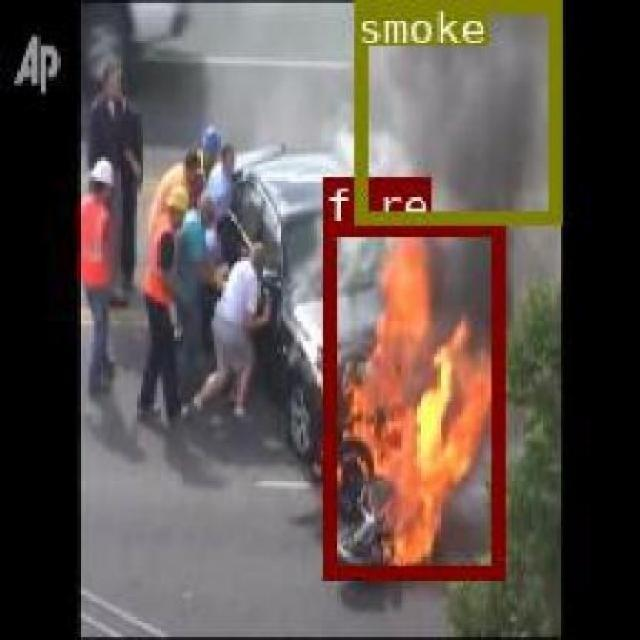fire: (321, 220, 502, 576)
smoke: (352, 0, 558, 220)
